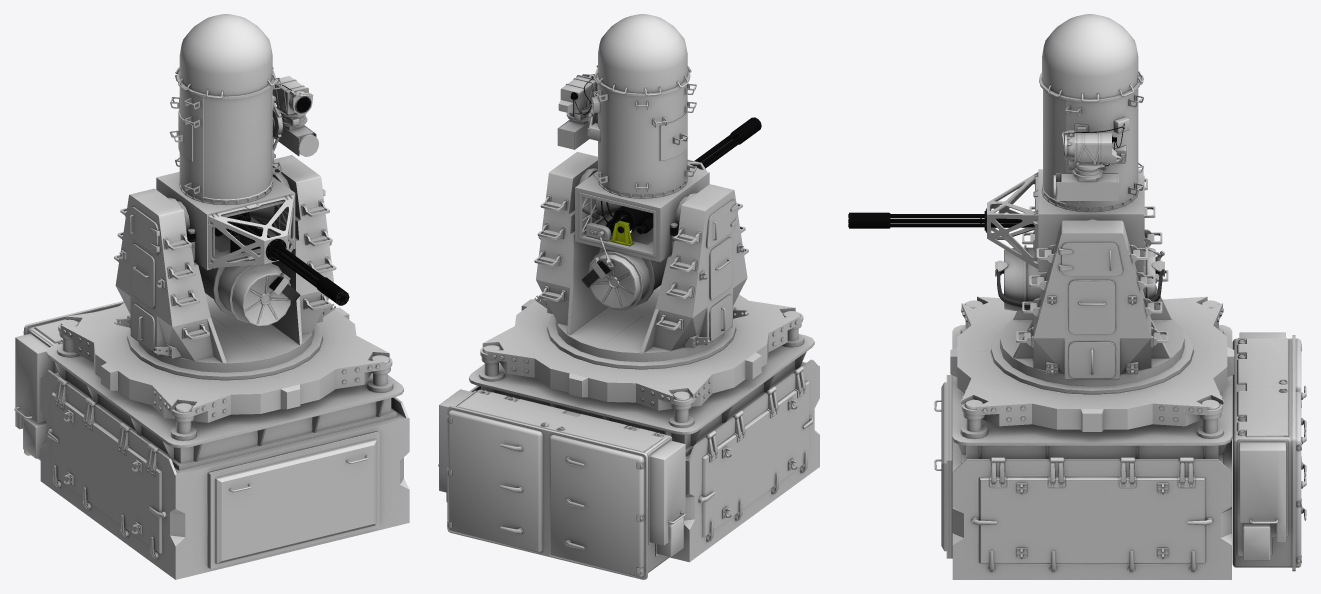
The model's file is phalanx_ciws.glb.
3 renders of one model, left to right at view 1: azimuth 30°, elevation 25°; view 2: azimuth 150°, elevation 25°; view 3: azimuth 270°, elevation 25°, orthographic. The views are drawn at different scales.
Visible parts, largest first — view 1: Stand, Rotate_Z, Nav-Radar, Rotate_x, Gun, Gun_Part; view 2: Stand, Rotate_Z, Nav-Radar, Rotate_x, Gun_Part, Gun; view 3: Stand, Rotate_Z, Nav-Radar, Rotate_x, Gun.
Boxes of the visible parts, x1,y1,x2,y2 form: Stand: [14, 301, 409, 579]; Rotate_Z: [114, 155, 336, 380]; Nav-Radar: [169, 14, 318, 204]; Rotate_x: [156, 171, 300, 326]; Gun: [233, 216, 349, 305]; Gun_Part: [214, 206, 282, 255]; Stand: [438, 294, 819, 579]; Rotate_Z: [534, 152, 748, 369]; Nav-Radar: [557, 14, 696, 198]; Rotate_x: [575, 159, 709, 310]; Gun_Part: [586, 199, 653, 267]; Gun: [690, 117, 761, 168]; Stand: [934, 296, 1306, 579]; Rotate_Z: [991, 178, 1193, 394]; Nav-Radar: [1039, 14, 1143, 211]; Rotate_x: [984, 169, 1164, 310]; Gun: [848, 212, 1034, 228].
Bounding box in the file's own units: 2.05 × 3.74 × 3.09.
3 materials, 3 textured.
